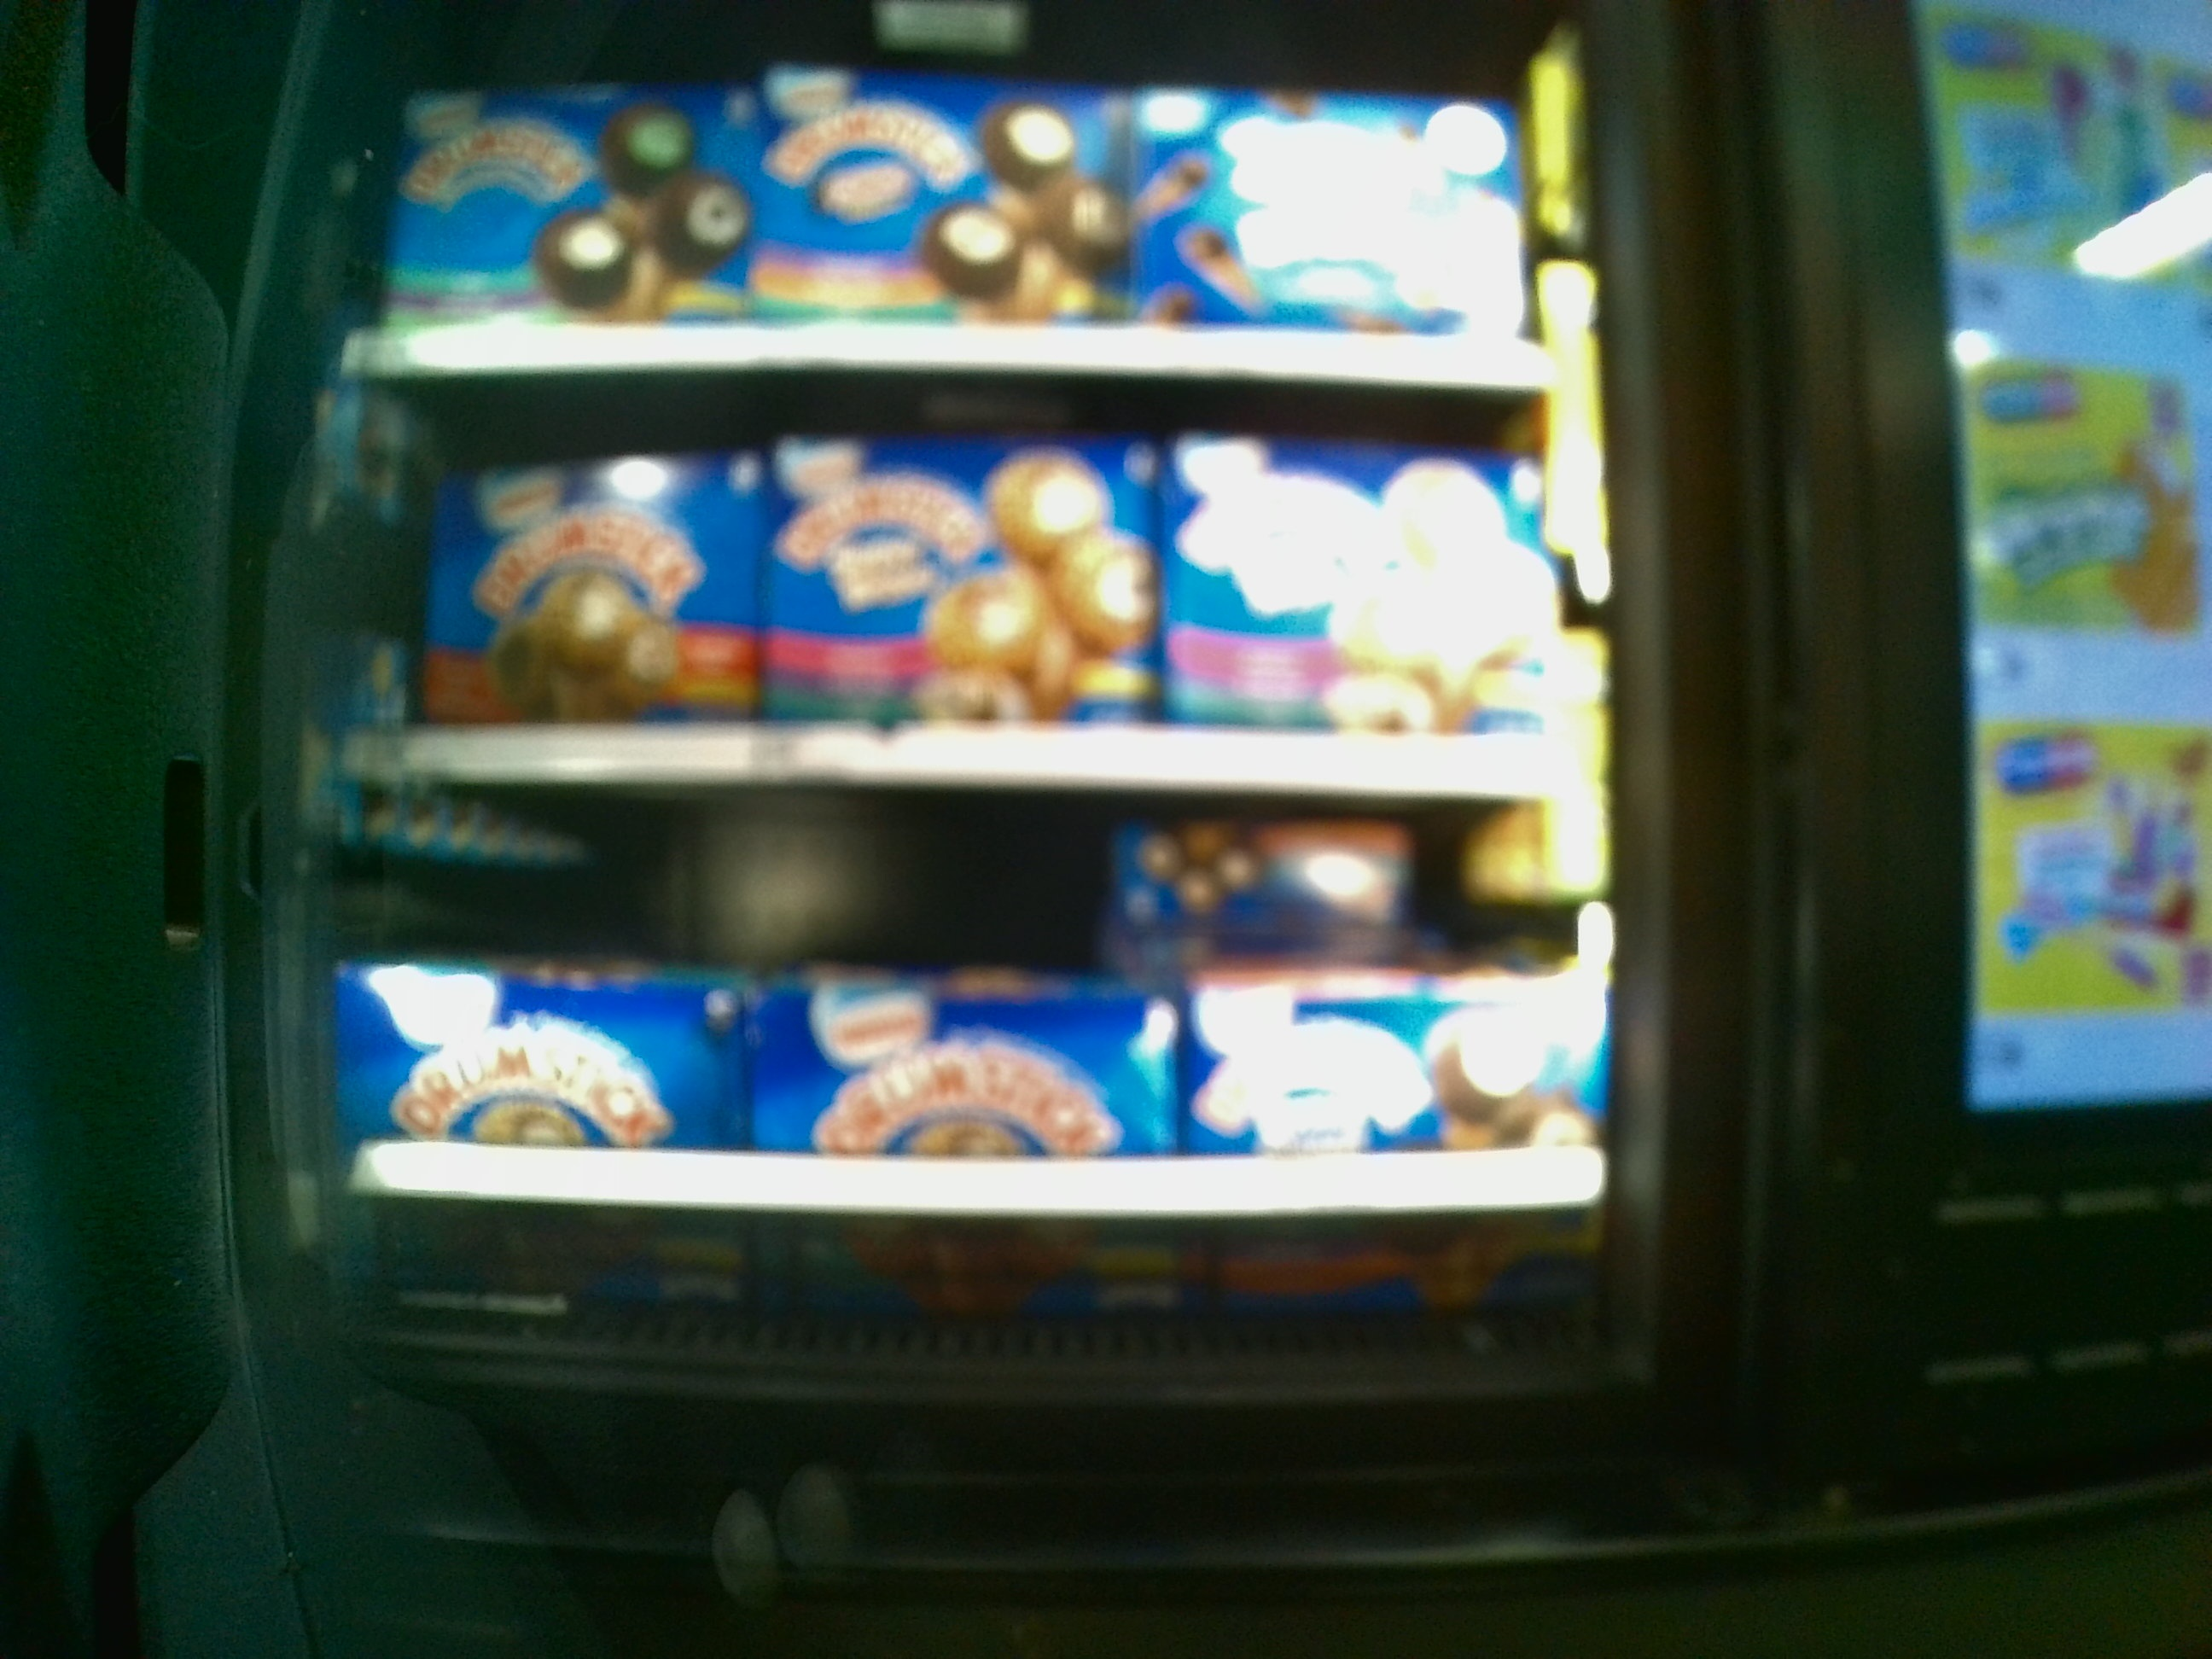shelf: (348, 781, 1588, 1345), (338, 375, 1599, 793), (334, 10, 1578, 399)
